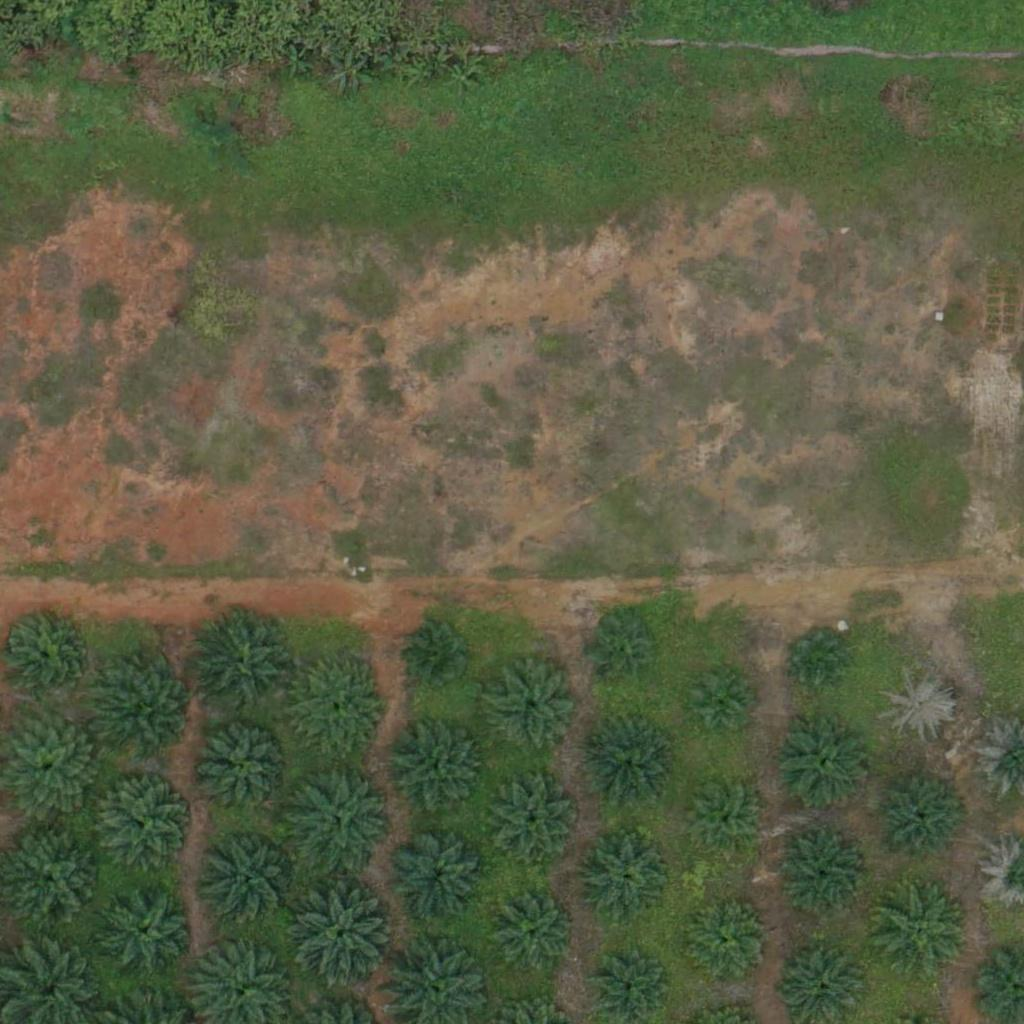Kelapa_Sawit: (188, 608, 300, 721), (288, 878, 400, 991), (96, 663, 196, 764), (197, 722, 297, 823), (199, 828, 299, 929), (290, 660, 390, 761), (292, 766, 392, 867), (386, 718, 486, 819), (389, 826, 489, 927), (483, 656, 583, 757), (96, 772, 196, 872), (99, 883, 199, 983), (775, 714, 875, 814), (874, 768, 974, 868), (874, 882, 974, 982), (491, 780, 579, 869), (585, 723, 673, 811), (582, 836, 670, 924), (684, 902, 772, 990), (488, 894, 575, 982), (780, 831, 867, 919), (881, 667, 956, 743), (687, 786, 762, 861), (592, 619, 655, 682), (689, 666, 752, 729), (409, 621, 472, 684), (785, 627, 847, 689)
